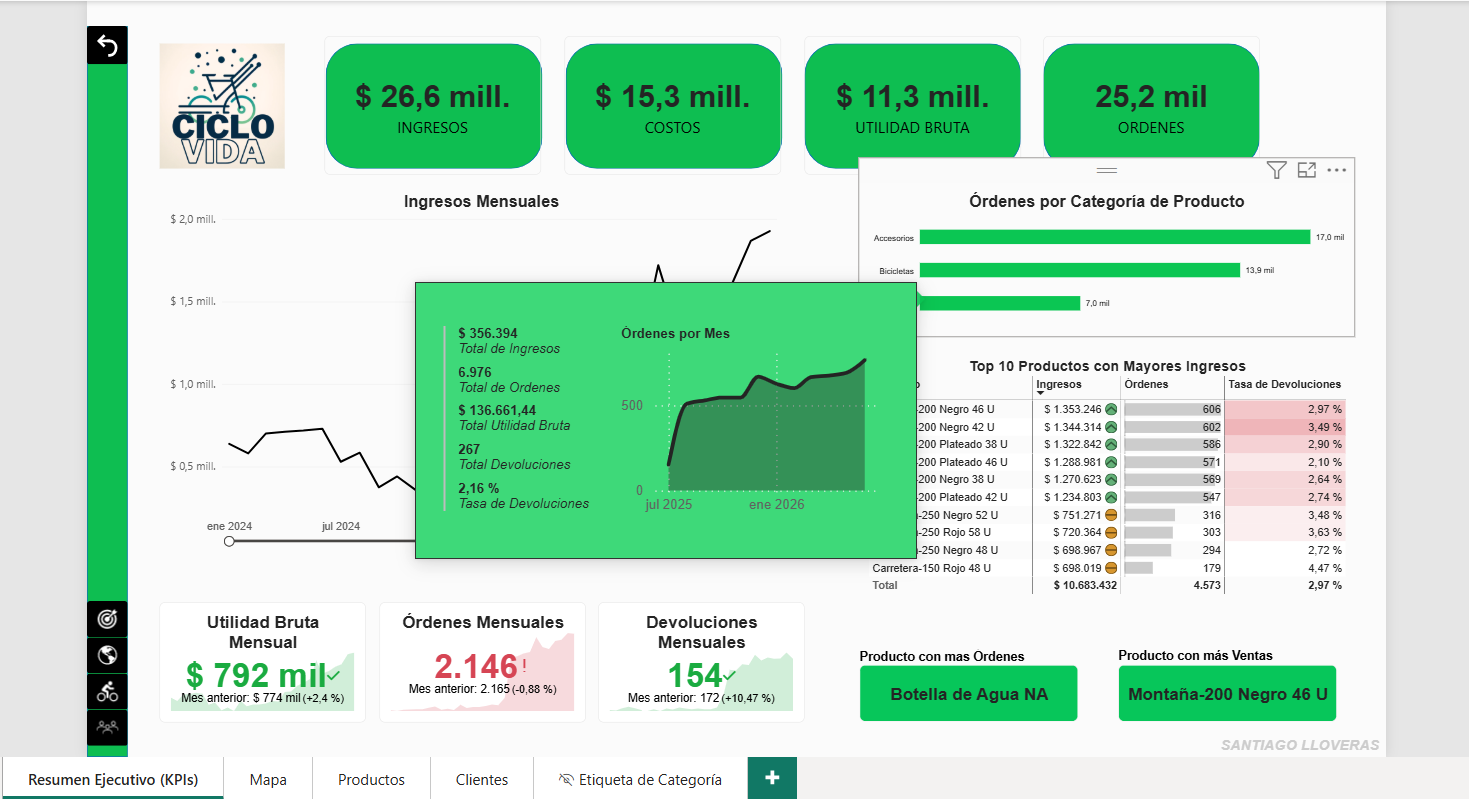

This screenshot's page, from the dashboard's own definition file:
{"tool":"powerbi","page":{"name":"Resumen Ejecutivo (KPIs)","canvas":[1920,1080],"ordinal":0},"visuals":[{"type":"image","title":"Logo Ciclo Vida","box":[85,26.7,230,185],"z":0},{"type":"shape","box":[353.3,26.7,320,185],"z":1000},{"type":"shape","box":[706.7,26.7,320,185],"z":2000},{"type":"shape","title":"Fondo de Barra de Navegación","box":[0,0,60,1080],"z":3000},{"type":"shape","box":[1413.3,26.7,320,185],"z":4000},{"type":"shape","box":[1060,26.7,320,185],"z":5000},{"type":"card","fields":{"Values":["Tabla de Medidas.Total de Ingresos"]},"box":[351.7,15,320,205],"z":6000},{"type":"lineChart","title":"Ingresos Mensuales","fields":{"Category":["Calendario.Inicio del mes"],"Y":["Tabla de Medidas.Total de Ingresos"]},"box":[106.7,231.7,951.7,573.3],"z":7000},{"type":"card","fields":{"Values":["Tabla de Medidas.Total de Costos"]},"box":[705.6,15,320,205],"z":8000},{"type":"card","fields":{"Values":["Tabla de Medidas.Total Utilidad Bruta"]},"box":[1059.4,15,320,205],"z":9000},{"type":"card","fields":{"Values":["Tabla de Medidas.Total de Ordenes"]},"box":[1412.9,15,320,204.3],"z":10000},{"type":"kpi","title":"Utilidad Bruta Mensual","fields":{"Goal":["Tabla de Medidas.Utilidad Bruta del Mes Anterior"],"Indicator":["Tabla de Medidas.Total Utilidad Bruta"],"TrendLine":["Calendario.Inicio del mes"]},"box":[108,851,304.8,177.8],"z":11000},{"type":"kpi","title":"Órdenes Mensuales","fields":{"Goal":["Tabla de Medidas.Ordenes del Mes Anterior"],"Indicator":["Tabla de Medidas.Total de Ordenes"],"TrendLine":["Calendario.Inicio del mes"]},"box":[431.8,851,304.8,177.8],"z":12000},{"type":"kpi","title":"Devoluciones Mensuales","fields":{"Goal":["Tabla de Medidas.Devoluciones del Mes Anterior"],"Indicator":["Tabla de Medidas.Total Devoluciones"],"TrendLine":["Calendario.Inicio del mes"]},"box":[755.7,851,304.8,177.8],"z":13000},{"type":"clusteredBarChart","title":"Órdenes por Categoría de Producto","fields":{"Category":["Categorias.CategoriaProducto"],"Y":["Tabla de Medidas.Total de Ordenes"]},"box":[1140,231.7,735,228.3],"z":14000},{"type":"pivotTable","title":"Top 10 Productos con Mayores Ingresos","fields":{"Rows":["Productos.Producto"],"Values":["Tabla de Medidas.Total de Ingresos","Tabla de Medidas.Total de Ordenes","Tabla de Medidas.Tasa de Devoluciones"]},"box":[1140,476.7,736.7,400],"z":15000},{"type":"cardVisual","fields":{"Data":["Min(Productos.Producto)"]},"box":[1141.3,943.7,323.2,85],"z":16000},{"type":"textbox","box":[1141.7,921.7,316.7,38.3],"z":17000},{"type":"cardVisual","fields":{"Data":["Min(Productos.Producto)"]},"box":[1523.6,943.7,323.2,85],"z":18000},{"type":"textbox","box":[1523.3,920,353.3,40],"z":19000},{"type":"actionButton","box":[0,0,60,56.7],"z":20000},{"type":"actionButton","box":[0,849.3,60,53.3],"z":21000},{"type":"actionButton","box":[0,956,60,53.3],"z":22000},{"type":"actionButton","box":[0,1009.3,60,53.3],"z":23000},{"type":"actionButton","box":[0,902.7,60,53.3],"z":24000},{"type":"textbox","box":[1623.3,1050.8,286.3,27.7],"z":24001}]}

Visuals, with their boxes on the page's 1920x1080 design canvas (x1, y1, x2, y2). These are canvas units, not pixel positions in the 1469x799 screenshot, which may show the page scaled, cropped or inside an application window:
"Logo Ciclo Vida" image: <bbox>85, 27, 315, 212</bbox>
shape: <bbox>353, 27, 673, 212</bbox>
shape: <bbox>707, 27, 1027, 212</bbox>
"Fondo de Barra de Navegación" shape: <bbox>0, 0, 60, 1080</bbox>
shape: <bbox>1413, 27, 1733, 212</bbox>
shape: <bbox>1060, 27, 1380, 212</bbox>
card - Tabla de Medidas.Total de Ingresos: <bbox>352, 15, 672, 220</bbox>
"Ingresos Mensuales" lineChart: <bbox>107, 232, 1058, 805</bbox>
card - Tabla de Medidas.Total de Costos: <bbox>706, 15, 1026, 220</bbox>
card - Tabla de Medidas.Total Utilidad Bruta: <bbox>1059, 15, 1379, 220</bbox>
card - Tabla de Medidas.Total de Ordenes: <bbox>1413, 15, 1733, 219</bbox>
"Utilidad Bruta Mensual" kpi: <bbox>108, 851, 413, 1029</bbox>
"Órdenes Mensuales" kpi: <bbox>432, 851, 737, 1029</bbox>
"Devoluciones Mensuales" kpi: <bbox>756, 851, 1060, 1029</bbox>
"Órdenes por Categoría de Producto" clusteredBarChart: <bbox>1140, 232, 1875, 460</bbox>
"Top 10 Productos con Mayores Ingresos" pivotTable: <bbox>1140, 477, 1877, 877</bbox>
cardVisual - Min(Productos.Producto): <bbox>1141, 944, 1464, 1029</bbox>
textbox: <bbox>1142, 922, 1458, 960</bbox>
cardVisual - Min(Productos.Producto): <bbox>1524, 944, 1847, 1029</bbox>
textbox: <bbox>1523, 920, 1877, 960</bbox>
actionButton: <bbox>0, 0, 60, 57</bbox>
actionButton: <bbox>0, 849, 60, 903</bbox>
actionButton: <bbox>0, 956, 60, 1009</bbox>
actionButton: <bbox>0, 1009, 60, 1063</bbox>
actionButton: <bbox>0, 903, 60, 956</bbox>
textbox: <bbox>1623, 1051, 1910, 1078</bbox>
